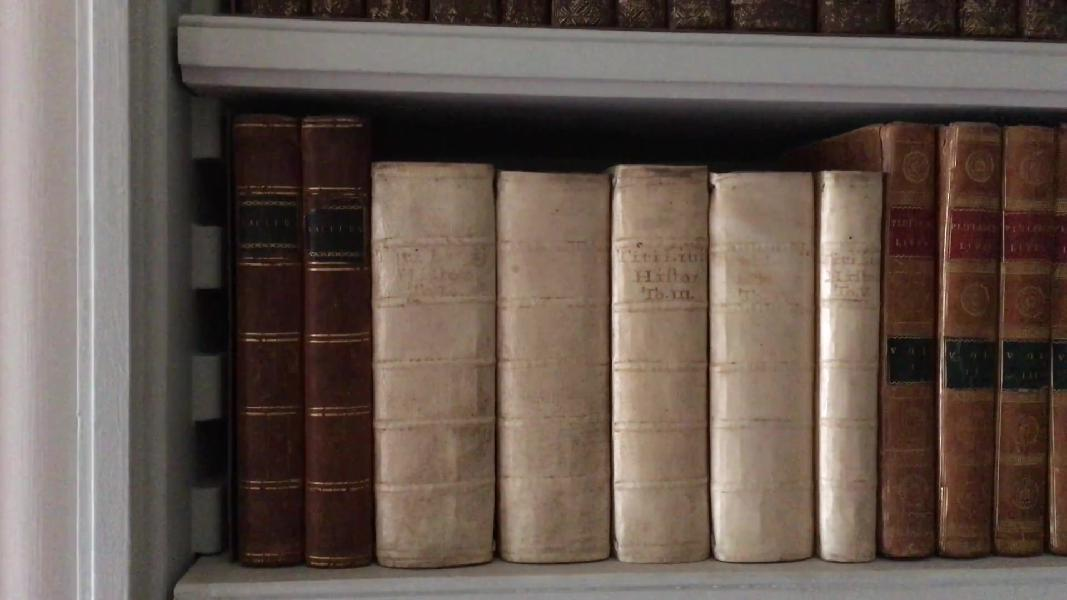Kk4-1_2: (228, 112, 374, 571)
Kk4-3_7: (372, 158, 879, 564)
Kk4-8_13: (882, 125, 1067, 555)
